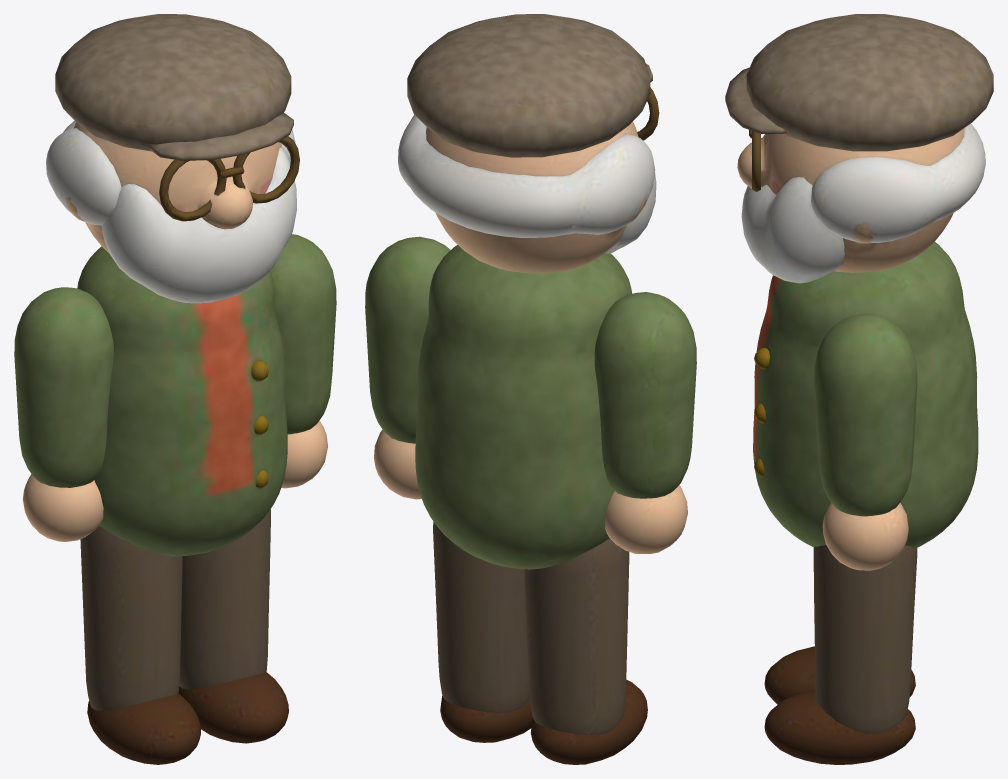
The model's file is villager_grandpa.glb.
3 views of the same model, side by side, from view 1: azimuth 30°, elevation 25°; view 2: azimuth 150°, elevation 25°; view 3: azimuth 270°, elevation 25° (orthographic). The views are drawn at different scales.
Parts seen in each view (by area): view 1: head, body, leg0, arm0, leg1, arm1; view 2: head, body, arm0, leg0, leg1, arm1; view 3: head, body, leg1, arm1, leg0.
Part boxes in pixels (bbox=[...]): head: bbox=[46, 14, 299, 303]; body: bbox=[77, 246, 287, 556]; leg0: bbox=[80, 526, 200, 764]; arm0: bbox=[14, 287, 113, 541]; leg1: bbox=[178, 509, 288, 743]; arm1: bbox=[270, 234, 336, 488]; head: bbox=[398, 14, 659, 273]; body: bbox=[415, 245, 632, 569]; arm0: bbox=[594, 292, 696, 553]; leg0: bbox=[524, 538, 647, 764]; leg1: bbox=[433, 521, 532, 742]; arm1: bbox=[365, 236, 450, 499]; head: bbox=[725, 14, 993, 283]; body: bbox=[753, 241, 978, 547]; leg1: bbox=[764, 545, 917, 764]; arm1: bbox=[814, 314, 917, 570]; leg0: bbox=[764, 646, 915, 704].
Bounding box in the file's own units: 0.421 × 0.9082 × 0.3144.
1 material, 1 textured.
